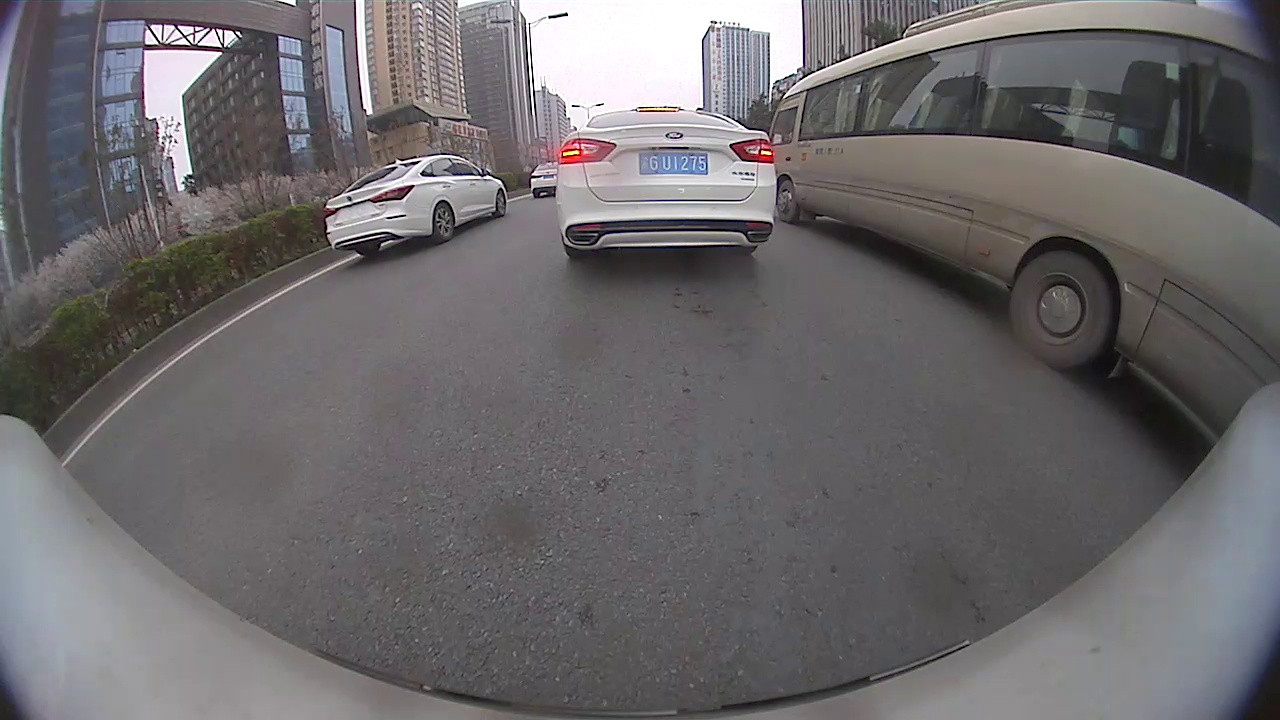bus: (768, 1, 1279, 435)
car: (556, 107, 776, 257), (321, 153, 508, 258), (528, 160, 559, 195)
front: (774, 182, 798, 222), (496, 187, 507, 218)
rear: (1007, 250, 1113, 369), (432, 203, 454, 243)
